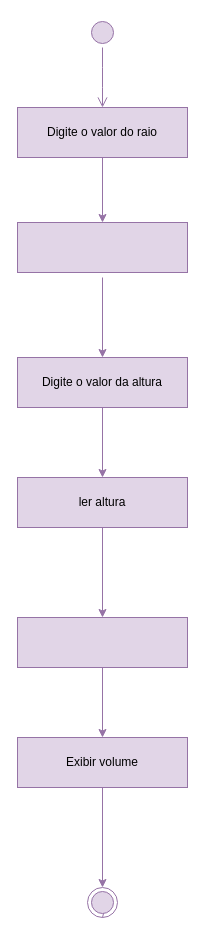
Some shapes in this 205 by 943 pixel diagram are drawn without their labels. Here are the shapes that lost their labels. From the top down, the box of each, then its label:
(16, 222, 188, 272): ler raio
(16, 616, 188, 668): volume = 3.14 * (raio * raio) * altura
